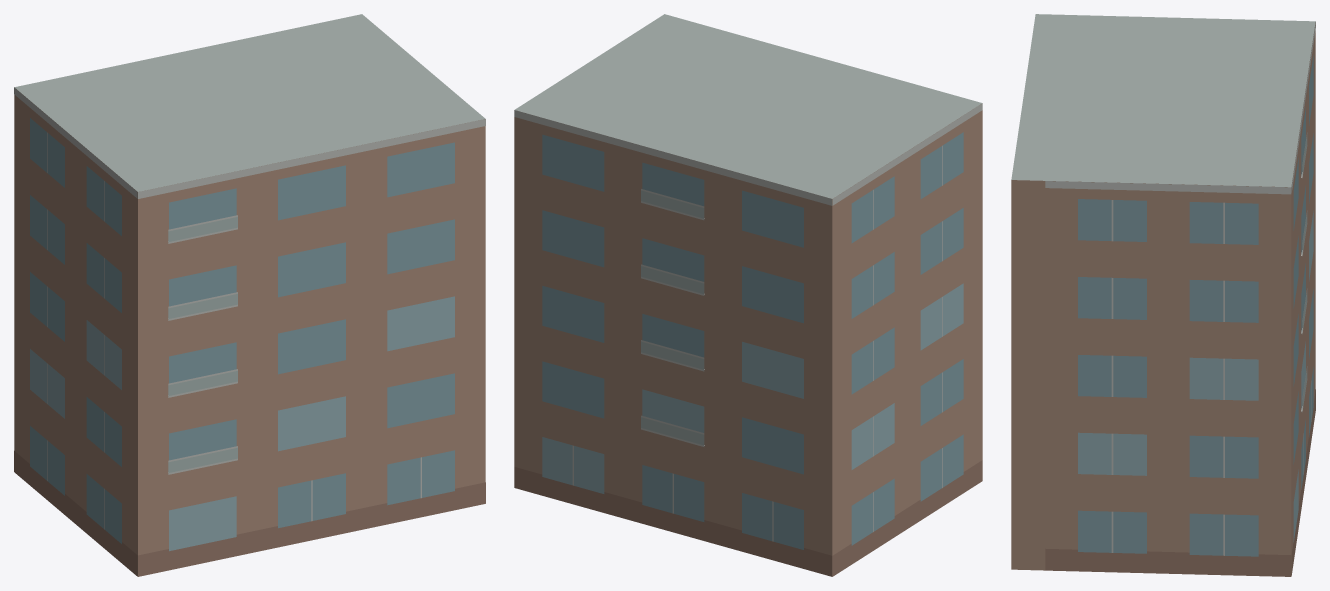
Rendered from survey-upis-32772575.glb.
3 renders of one model, left to right at view 1: azimuth 30°, elevation 25°; view 2: azimuth 150°, elevation 25°; view 3: azimuth 270°, elevation 25°, orthographic. The views are drawn at different scales.
Visible parts, largest first — view 1: survey-upis-32772575.tmp; view 2: survey-upis-32772575.tmp; view 3: survey-upis-32772575.tmp.
Boxes of the visible parts, x1,y1,x2,y2 form: survey-upis-32772575.tmp: (14,14,485,576); survey-upis-32772575.tmp: (514,14,982,576); survey-upis-32772575.tmp: (1011,14,1315,576).
Size of the model in its own units: 12.59 by 13.2 by 9.35.
